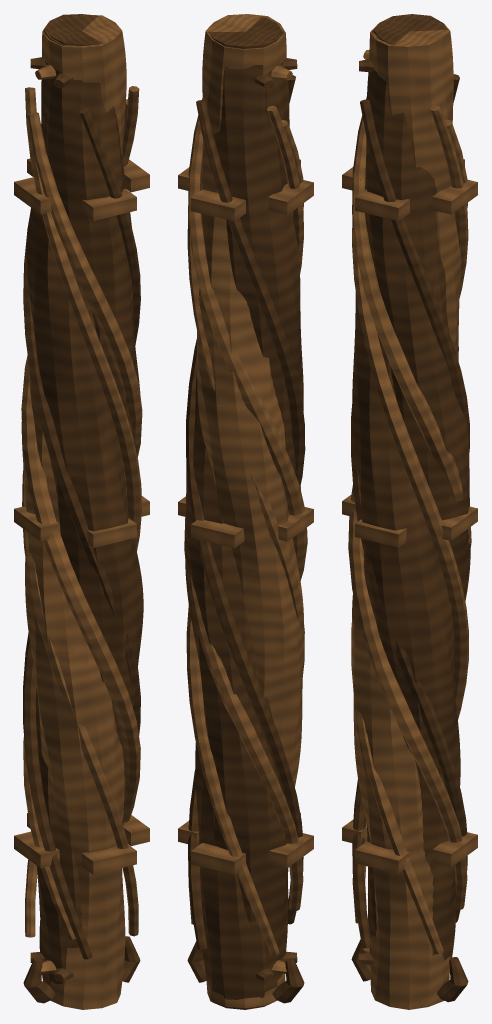
The model's file is rootforged-worldroot-pillar-8m.glb.
The picture shows the model from 3 angles, left to right: view 1: azimuth 30°, elevation 25°; view 2: azimuth 150°, elevation 25°; view 3: azimuth 330°, elevation 25°; orthographic projection.
Parts seen in each view (by area): view 1: braided-root-1, braided-root-0, braided-root-2, surface-root-vein-0, surface-root-vein-1, bark-ridge-3, bark-ridge-2, bark-ridge-1, bark-ridge-0, pillar-key-y-0--1, pillar-key-y-2--1, pillar-key-x-0--1 (+7 smaller); view 2: braided-root-1, braided-root-0, braided-root-2, bark-ridge-0, surface-root-vein-0, bark-ridge-2, bark-ridge-3, surface-root-vein-1, bark-ridge-1, pillar-key-y-2-1, pillar-key-y-0-1, pillar-key-y-1-1 (+5 smaller); view 3: braided-root-1, braided-root-0, braided-root-2, bark-ridge-3, surface-root-vein-0, surface-root-vein-1, bark-ridge-2, bark-ridge-1, bark-ridge-0, pillar-key-y-0--1, pillar-key-y-2--1, pillar-key-x-2-1 (+6 smaller).
Boxes of the visible parts, <box> form: braided-root-1: <box>21,15,126,1009</box>; braided-root-0: <box>27,14,143,985</box>; braided-root-2: <box>35,31,140,968</box>; surface-root-vein-0: <box>21,99,140,822</box>; surface-root-vein-1: <box>23,112,142,939</box>; bark-ridge-3: <box>25,87,141,937</box>; bark-ridge-2: <box>23,109,140,959</box>; bark-ridge-1: <box>22,86,139,936</box>; bark-ridge-0: <box>23,215,140,735</box>; pillar-key-y-0--1: <box>82,845,136,874</box>; pillar-key-y-2--1: <box>82,189,136,220</box>; pillar-key-x-0--1: <box>14,831,59,868</box>; braided-root-1: <box>197,14,303,1008</box>; braided-root-0: <box>195,31,303,1009</box>; braided-root-2: <box>185,17,289,964</box>; bark-ridge-0: <box>187,100,305,949</box>; surface-root-vein-0: <box>188,98,307,924</box>; bark-ridge-2: <box>186,75,303,924</box>; bark-ridge-3: <box>186,106,303,955</box>; surface-root-vein-1: <box>184,120,303,911</box>; bark-ridge-1: <box>187,215,304,676</box>; pillar-key-y-2-1: <box>191,189,245,221</box>; pillar-key-y-0-1: <box>191,843,245,874</box>; pillar-key-y-1-1: <box>191,520,244,548</box>; braided-root-1: <box>352,23,460,1009</box>; braided-root-0: <box>352,14,460,960</box>; braided-root-2: <box>365,19,470,952</box>; bark-ridge-3: <box>352,218,468,719</box>; surface-root-vein-0: <box>348,119,467,910</box>; surface-root-vein-1: <box>352,96,471,923</box>; bark-ridge-2: <box>352,99,469,948</box>; bark-ridge-1: <box>351,105,468,954</box>; bark-ridge-0: <box>351,74,467,922</box>; pillar-key-y-0--1: <box>355,841,409,873</box>; pillar-key-y-2--1: <box>355,189,409,221</box>; pillar-key-x-2-1: <box>432,179,477,214</box>.
Size of the model in its own units: 1 by 8 by 1.
2 materials, 2 textured.
